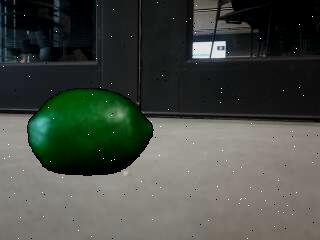Lime: (27, 87, 154, 176)
